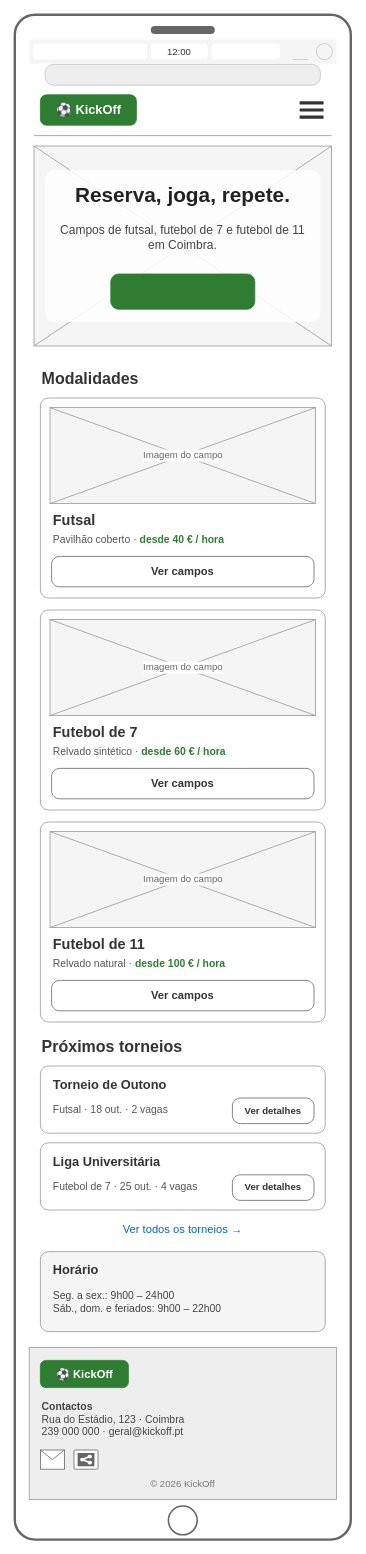
Some shapes in this 366 by 1554 pixel diagram are drawn without their labels. Here are the shapes that lost their labels. From the top down, the centre of each, then its label:
At (x=182, y=74): "kickoff.pt".
At (x=182, y=291): "Reservar campo".
